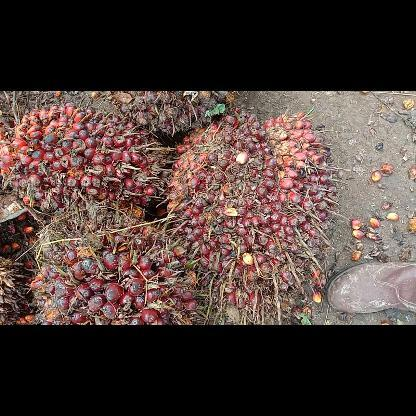Kurang masak: (106, 91, 238, 141)
TBS masak: (154, 106, 342, 324), (27, 194, 202, 324), (0, 98, 174, 219)
